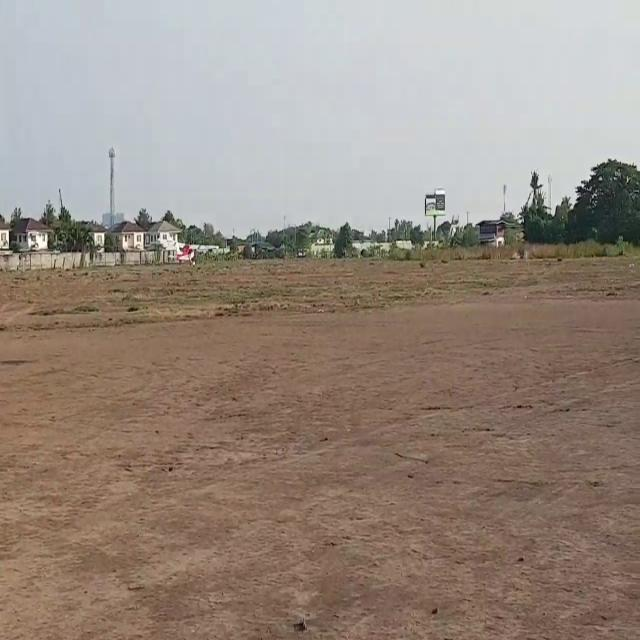iha: (160, 242, 219, 266)
